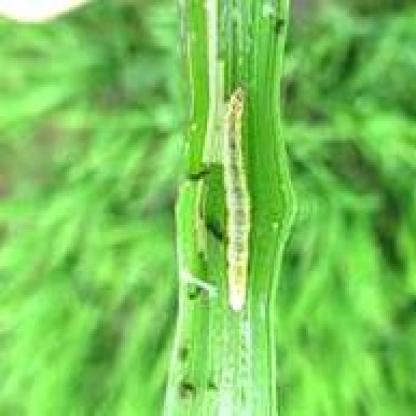leaf-folder: (210, 80, 261, 321)
